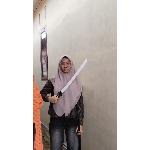Pedang: (49, 57, 93, 102)
